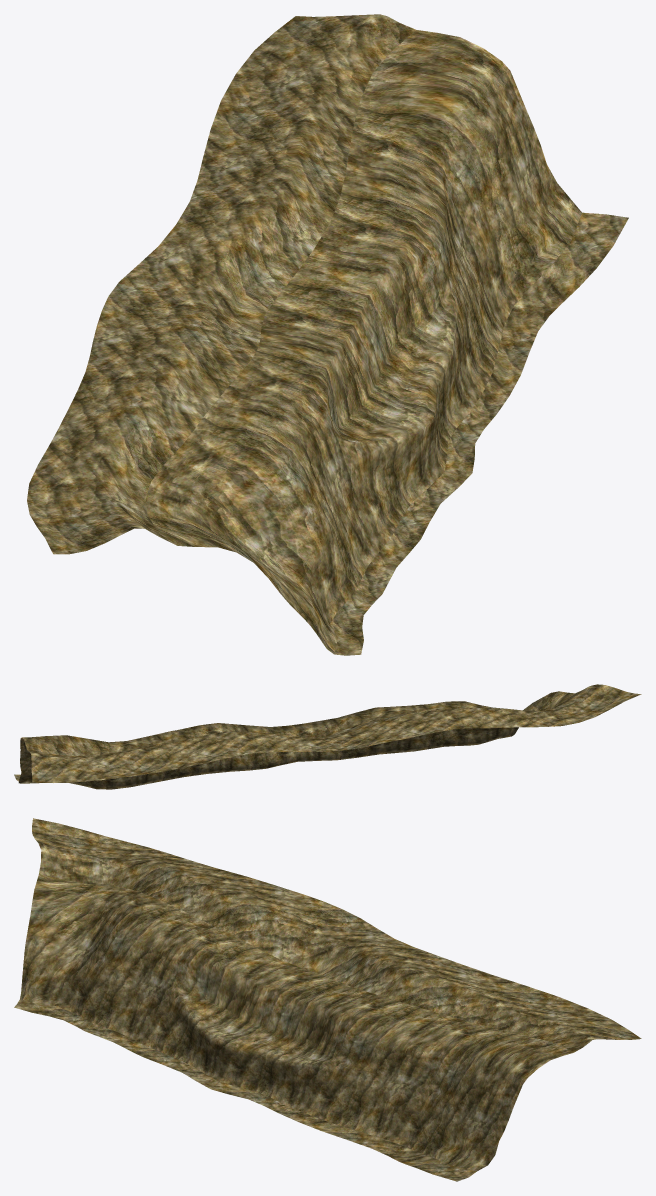
File: RM_PLAYSURFACE_FINAL_OBJECT09.fbx
3 renders of one model, top to bottom at view 1: azimuth 30°, elevation 25°; view 2: azimuth 150°, elevation 25°; view 3: azimuth 270°, elevation 25°, orthographic. The views are drawn at different scales.
Visible parts, largest first — view 1: RM_PLAYSURFACE_FINAL_OBJECT09; view 2: RM_PLAYSURFACE_FINAL_OBJECT09; view 3: RM_PLAYSURFACE_FINAL_OBJECT09.
Part boxes in pixels (x1,y1,x2,y2): RM_PLAYSURFACE_FINAL_OBJECT09: (27, 14, 628, 655); RM_PLAYSURFACE_FINAL_OBJECT09: (14, 684, 641, 789); RM_PLAYSURFACE_FINAL_OBJECT09: (14, 818, 641, 1181).
Size of the model in its own units: 437086 by 83546 by 416205.
2 materials, 2 textured.
